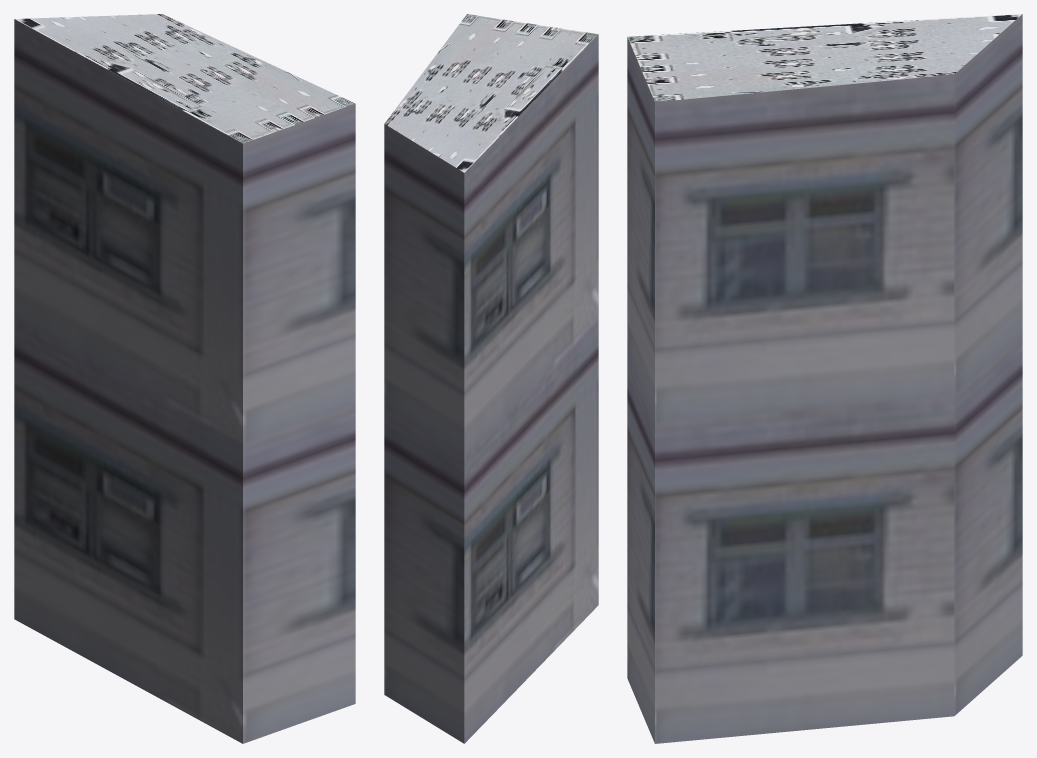
File: ResTex__4674.fbx
The picture shows the model from 3 angles, left to right: view 1: azimuth 30°, elevation 25°; view 2: azimuth 150°, elevation 25°; view 3: azimuth 270°, elevation 25°; orthographic projection. The views are drawn at different scales.
Visible parts, largest first — view 1: CityEngineMaterial_1_m, CityEngineMaterial_8_m; view 2: CityEngineMaterial_1_m, CityEngineMaterial_8_m; view 3: CityEngineMaterial_1_m, CityEngineMaterial_8_m.
Boxes of the visible parts, x1=… form: CityEngineMaterial_1_m: x1=14, y1=19, x2=355, y2=743; CityEngineMaterial_8_m: x1=15, y1=14, x2=354, y2=143; CityEngineMaterial_1_m: x1=384, y1=34, x2=598, y2=743; CityEngineMaterial_8_m: x1=384, y1=14, x2=598, y2=172; CityEngineMaterial_1_m: x1=627, y1=14, x2=1022, y2=743; CityEngineMaterial_8_m: x1=627, y1=14, x2=1021, y2=102.
Bounding box in the file's own units: 1.77 × 6 × 3.35.
Materials: 2 (2 with a texture image).
